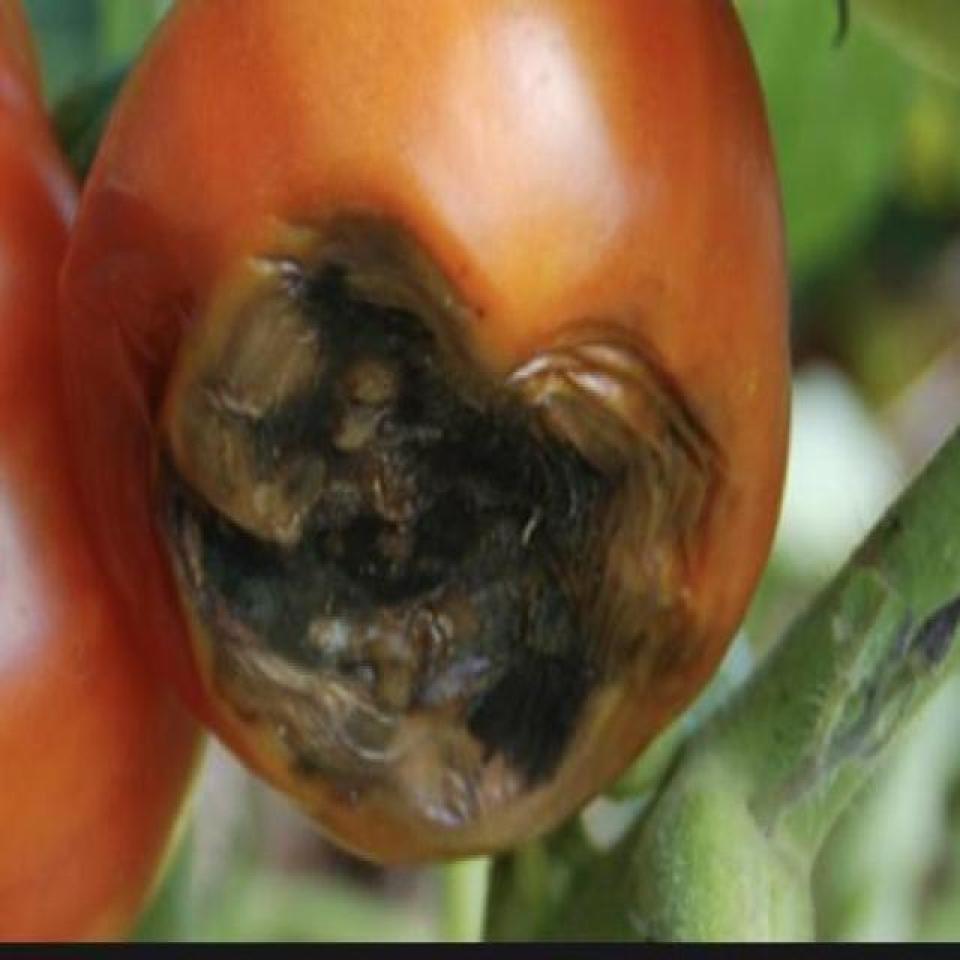Blossom_end_rot: (121, 189, 724, 841)
